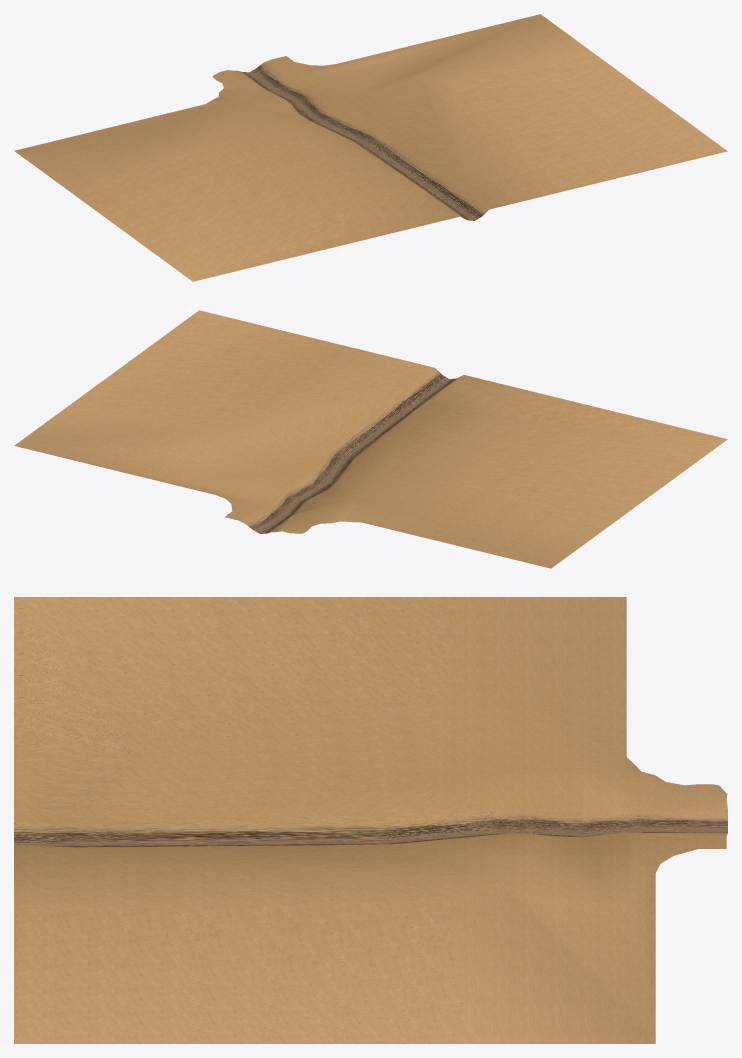
Rendered from Zone03_ExtraLand.glb.
3 views of the same model, one above another, from view 1: azimuth 30°, elevation 25°; view 2: azimuth 150°, elevation 25°; view 3: azimuth 270°, elevation 25° (orthographic). The views are drawn at different scales.
Visible parts, largest first — view 1: ZONE03_EXTRALAND; view 2: ZONE03_EXTRALAND; view 3: ZONE03_EXTRALAND.
Boxes of the visible parts, x1,y1,x2,y2 form: ZONE03_EXTRALAND: [14, 14, 727, 281]; ZONE03_EXTRALAND: [14, 310, 727, 568]; ZONE03_EXTRALAND: [14, 597, 727, 1043].
Bounding box in the file's own units: 292 × 9.97 × 197.
3 materials, 3 textured.
